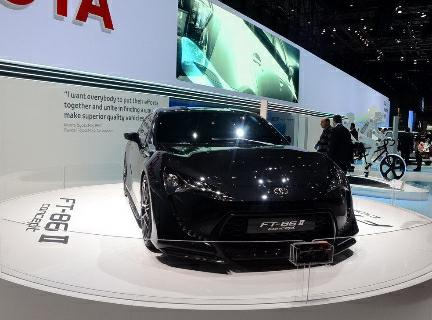丰田-FT-1: (115, 100, 367, 269)
